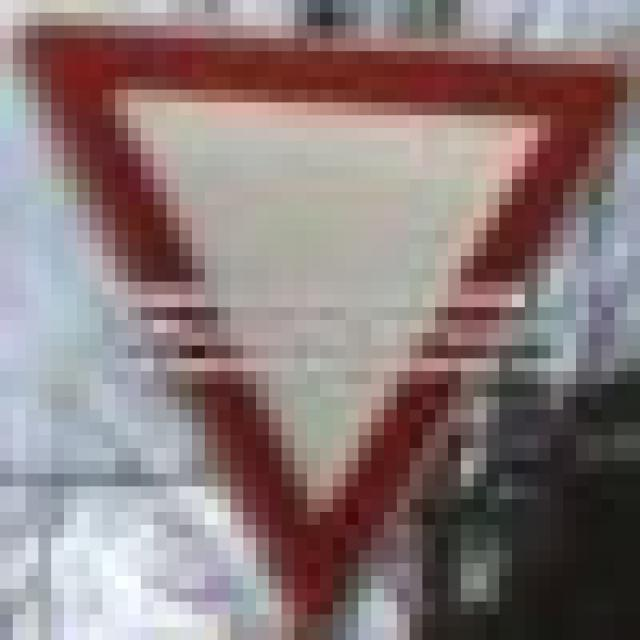gap_in_median: (0, 0, 627, 602)
